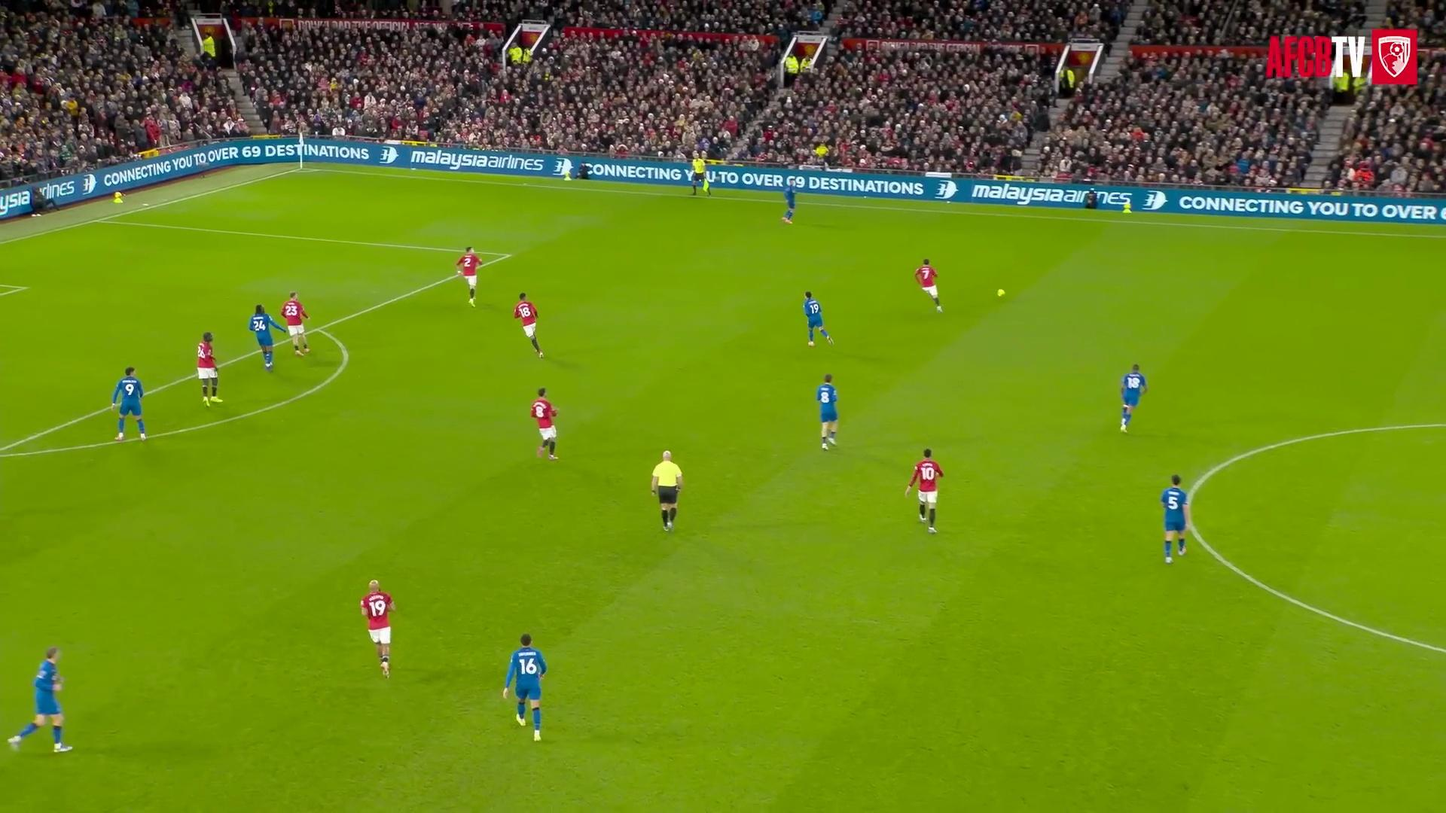football: (994, 286, 1010, 301)
player: (8, 646, 72, 752), (502, 634, 546, 740), (361, 580, 394, 677), (905, 449, 942, 533), (1161, 474, 1189, 563), (112, 367, 146, 440), (249, 304, 285, 370), (529, 388, 557, 460), (514, 293, 543, 358), (197, 332, 222, 406), (1120, 364, 1147, 431), (281, 292, 309, 355), (816, 374, 839, 450), (804, 291, 833, 346), (455, 246, 481, 306), (914, 258, 941, 312), (782, 185, 795, 224)
referee: (651, 452, 682, 531), (691, 153, 710, 196)
